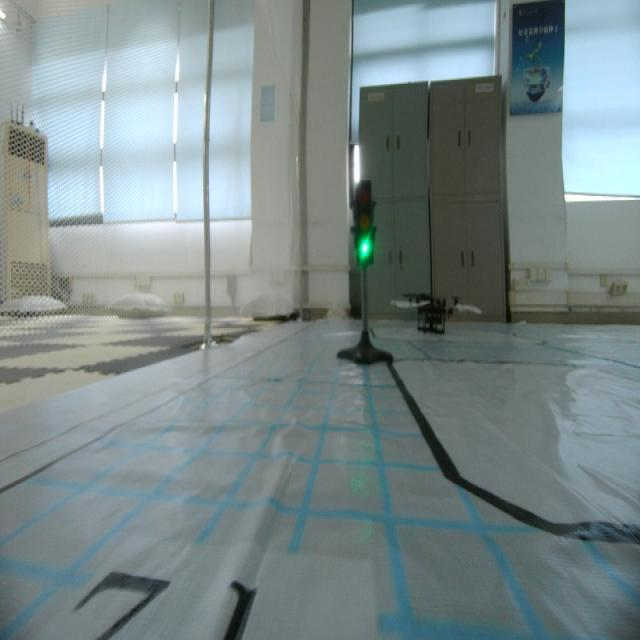green: (350, 178, 378, 266)
